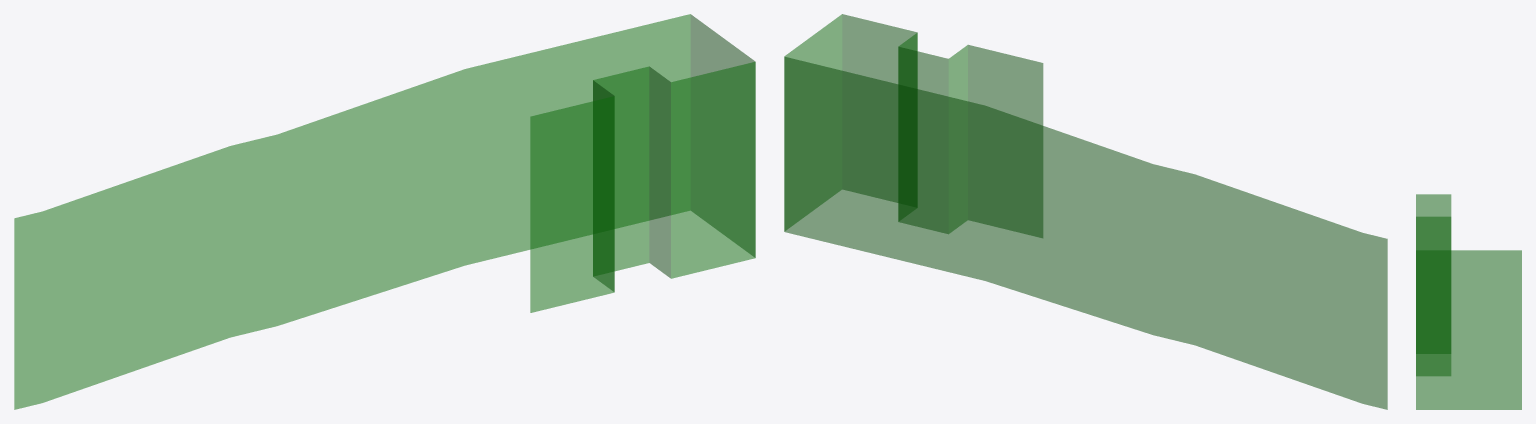
File: D06_wall02.obj
The picture shows the model from 3 angles, left to right: view 1: azimuth 30°, elevation 25°; view 2: azimuth 150°, elevation 25°; view 3: azimuth 270°, elevation 25°; orthographic projection. The views are drawn at different scales.
Size of the model in its own units: 72 by 23.5 by 12.
